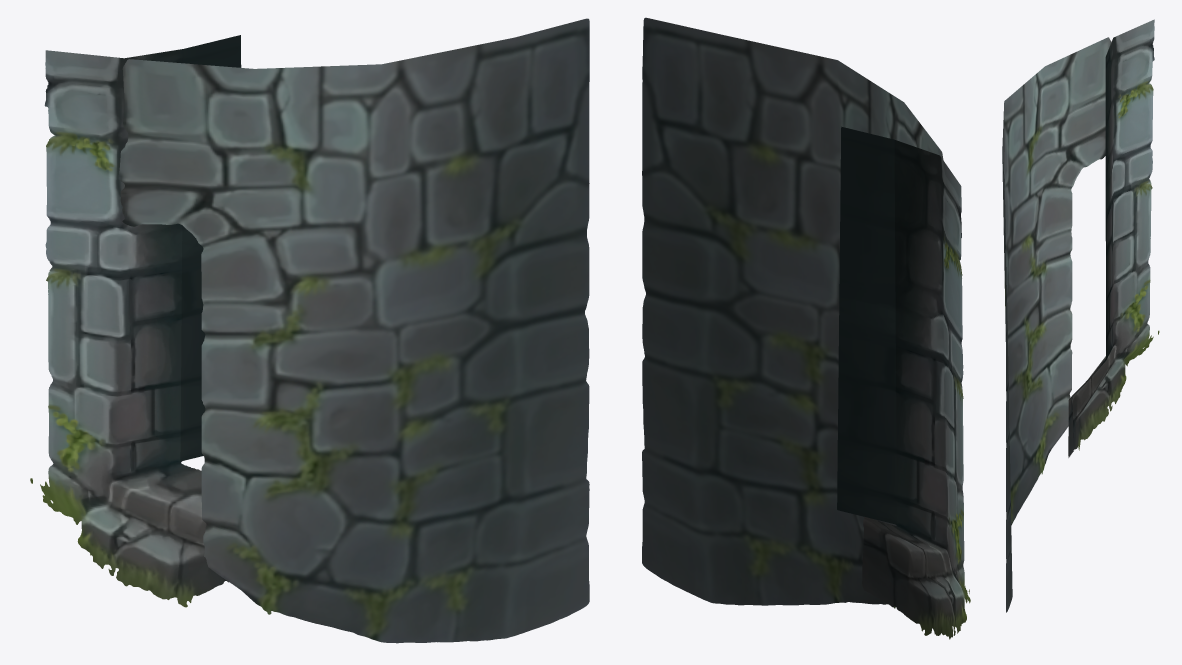
The model's file is Tower Entrance.FBX.
3 views of the same model, side by side, from view 1: azimuth 30°, elevation 25°; view 2: azimuth 150°, elevation 25°; view 3: azimuth 270°, elevation 25° (orthographic). The views are drawn at different scales.
Visible parts, largest first — view 1: Tower Entrance; view 2: Tower Entrance; view 3: Tower Entrance.
Part boxes in pixels (x1,y1,x2,y2): Tower Entrance: (30, 18, 589, 643); Tower Entrance: (642, 17, 970, 639); Tower Entrance: (1002, 19, 1159, 612).
Bounding box in the file's own units: 586 × 238 × 748.
